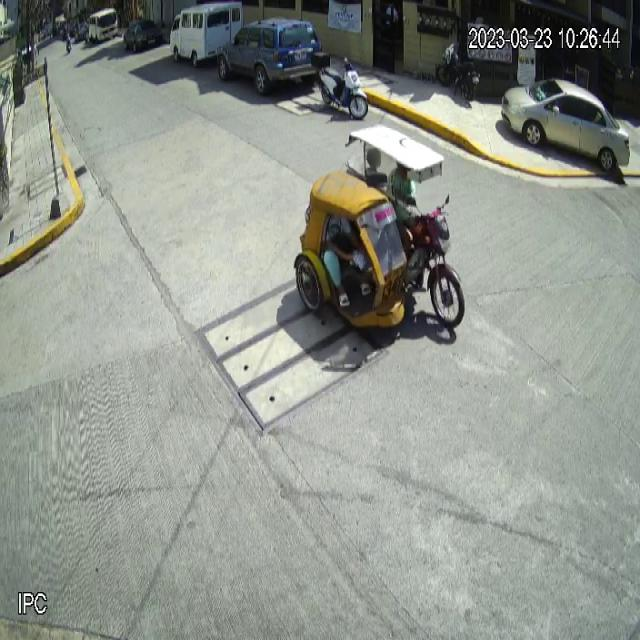Car: (501, 76, 630, 173), (216, 16, 321, 98)
Motorcycle: (316, 56, 368, 121)
Tricycle: (292, 121, 467, 346)
Van: (169, 0, 243, 67)
